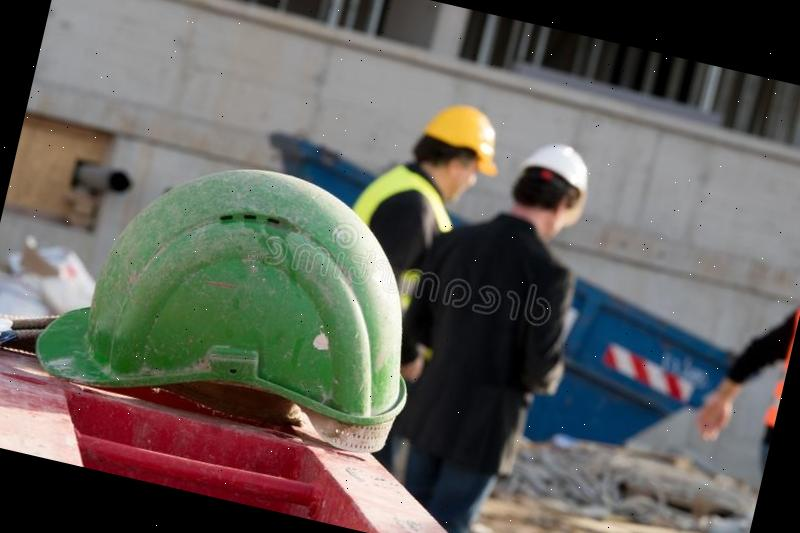helmet: (34, 129, 448, 459), (410, 94, 511, 178), (511, 133, 601, 214)
no_wear: (394, 223, 578, 472)
wear: (351, 174, 463, 262)
